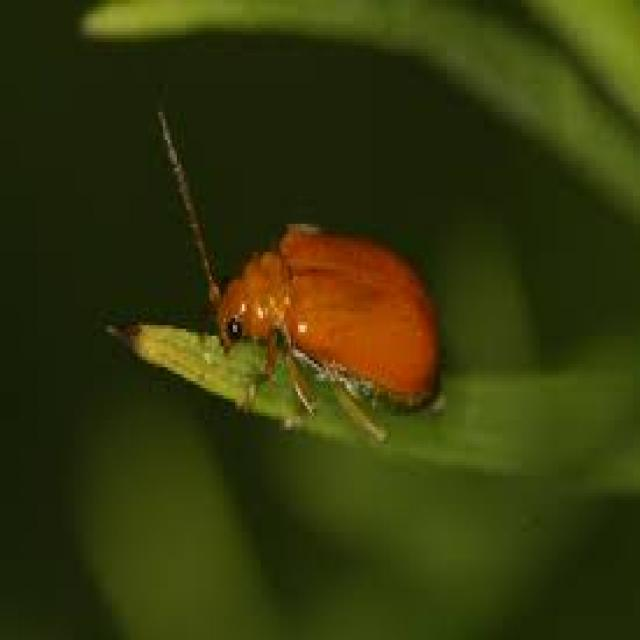Pumpkin Beetle: (160, 98, 444, 450)
